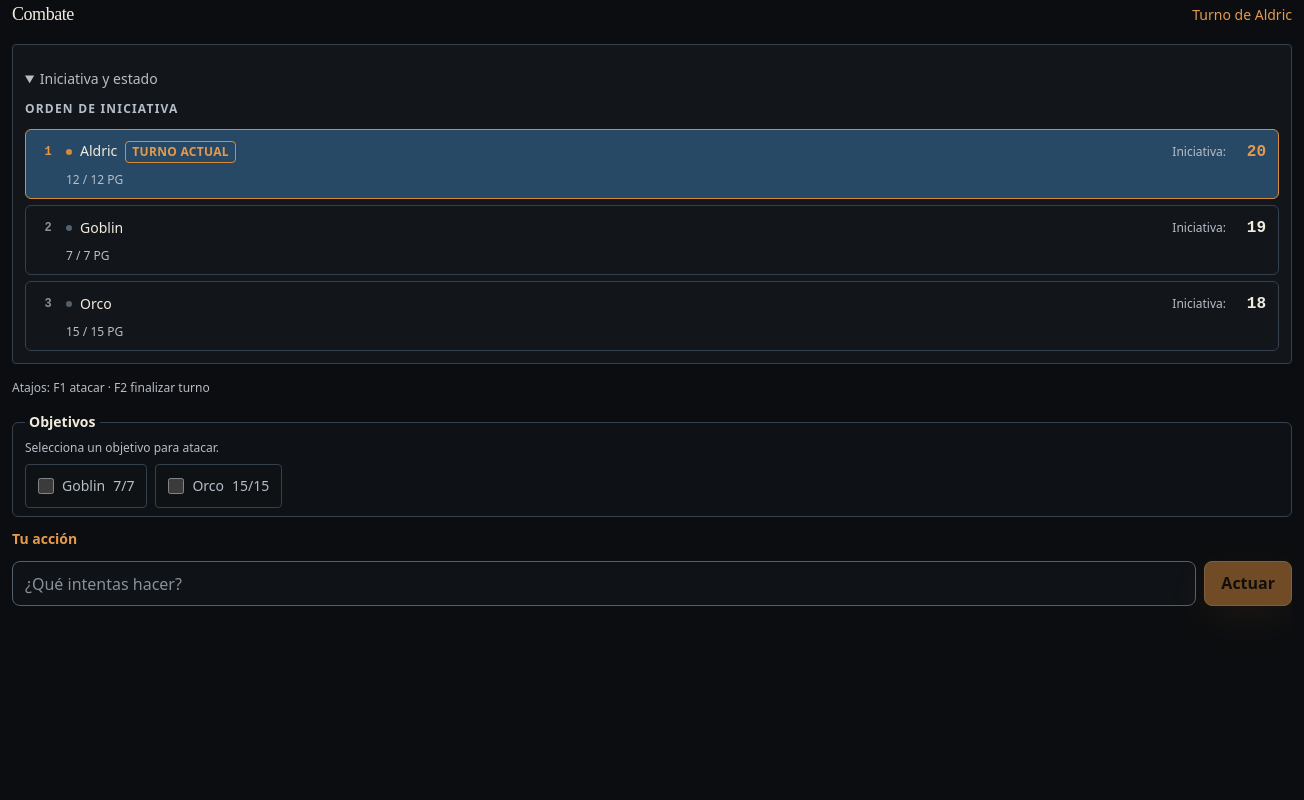
Test: HUD Attack (F1) needs exactly one target › refuses with two targets and sends nothing
Step 1. Click the checkbox labelled "Goblin 7/7" → click(46, 486), box [38, 478, 54, 494]
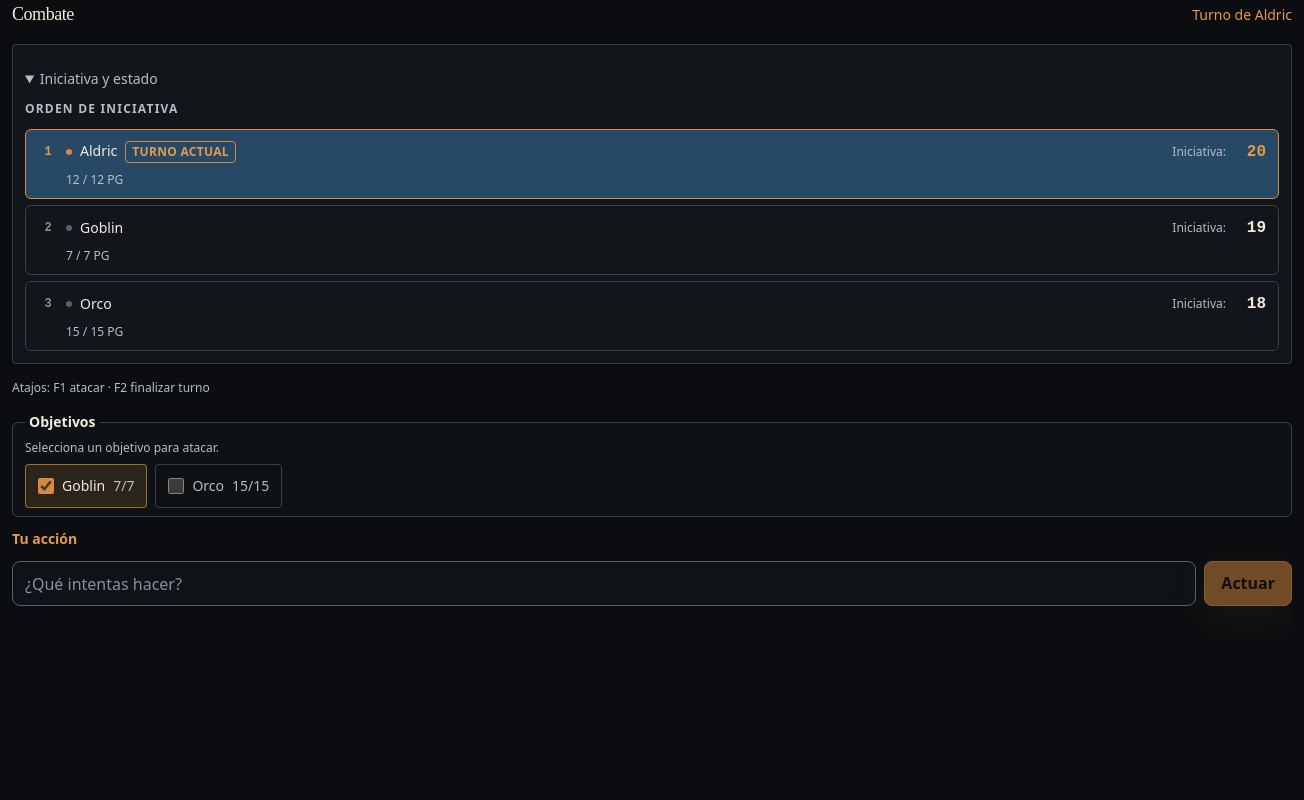
Step 2. Click the checkbox labelled "Orco 15/15" → click(176, 486), box [168, 478, 184, 494]
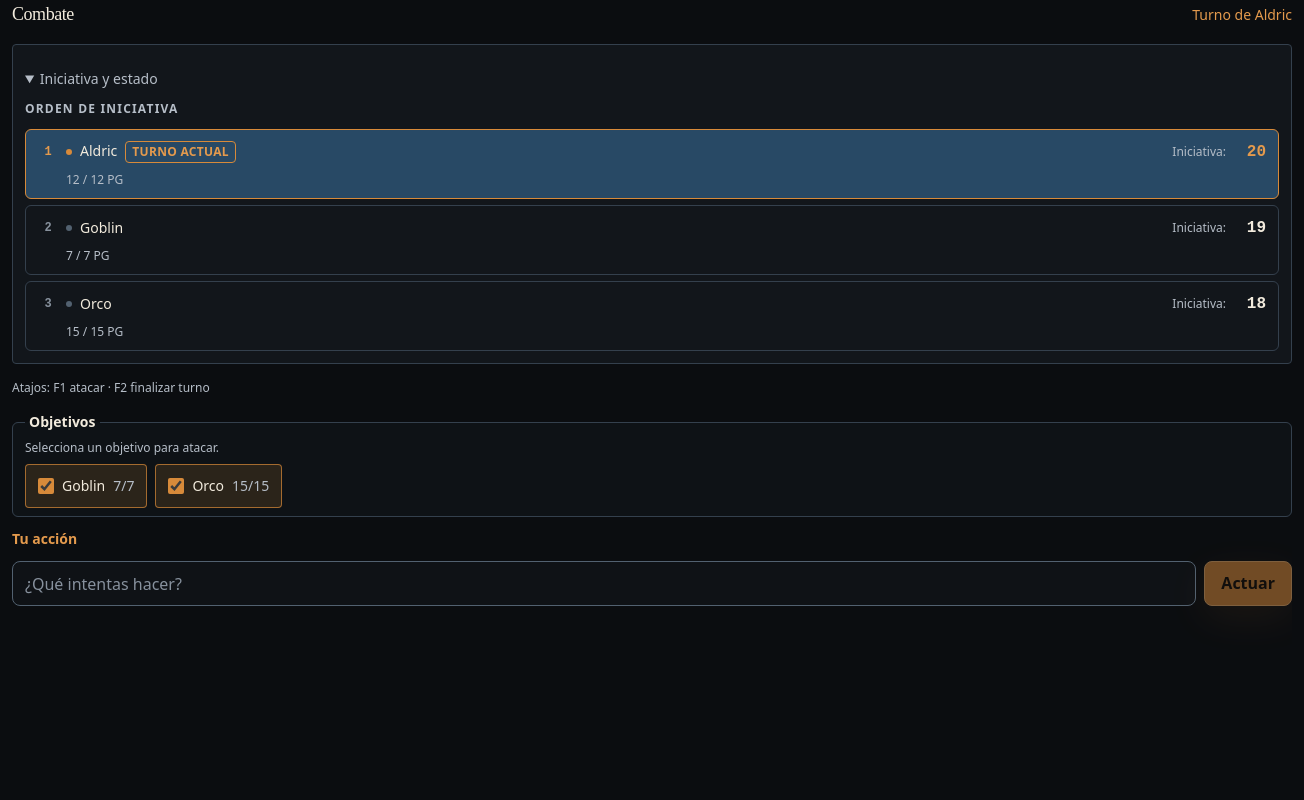
Step 3. Press F1
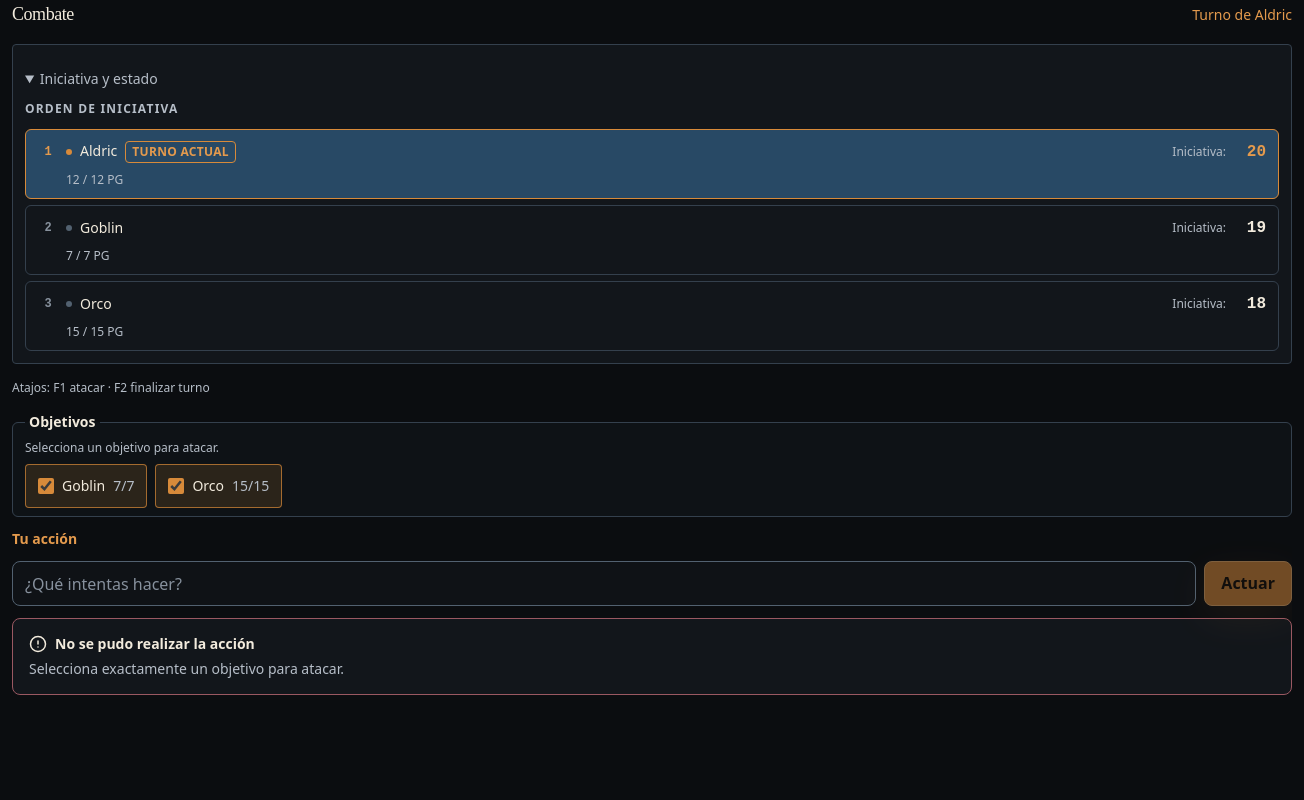
expect the message "No se pudo realizar la acción Selecciona exactamente un objetivo para atacar." is shown: met, box [12, 618, 1292, 695]
